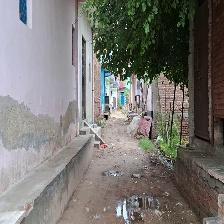Road: (57, 109, 188, 223)
